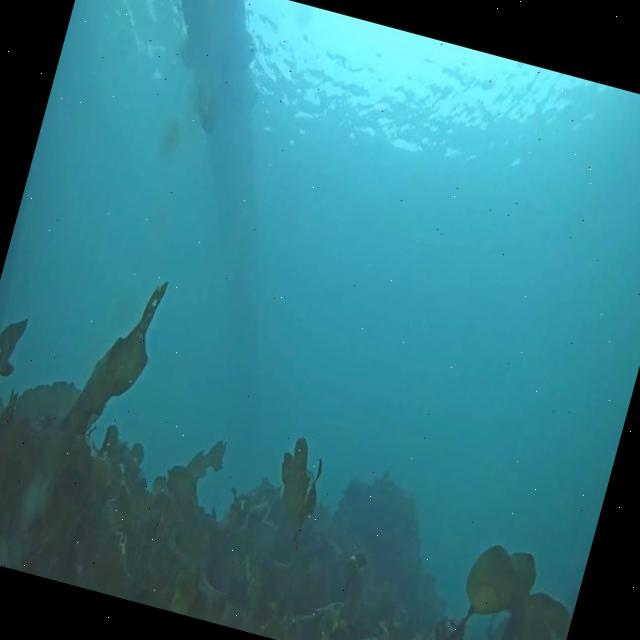fish: (182, 70, 230, 139)
